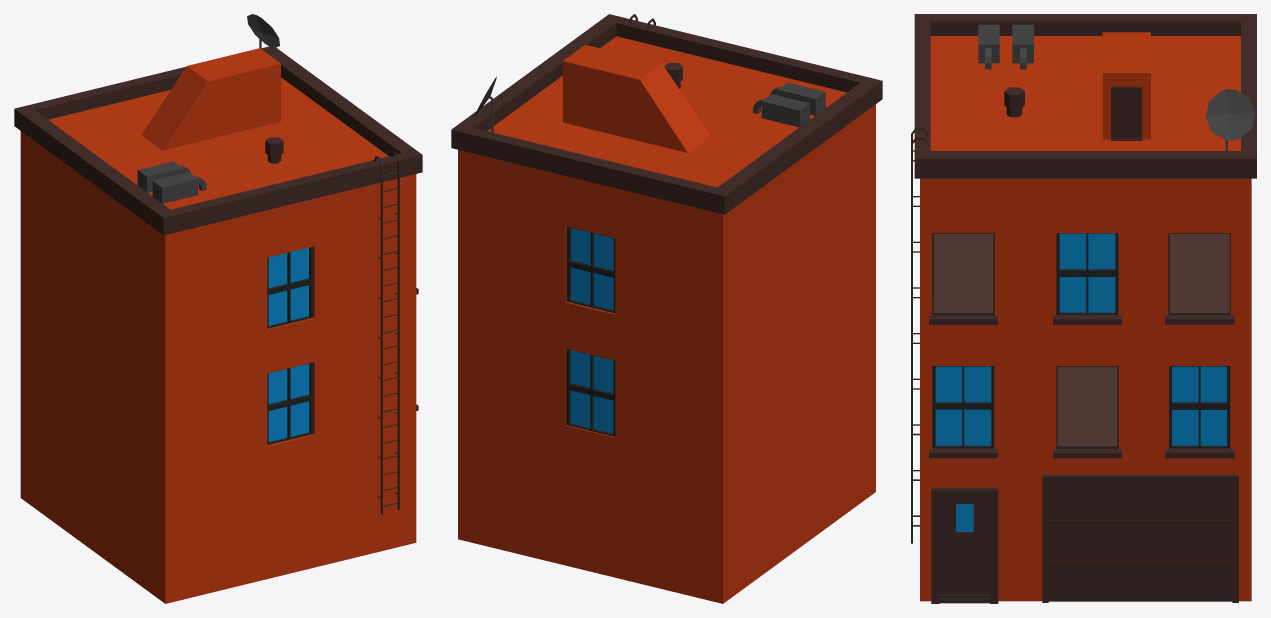
The model's file is House.fbx.
3 renders of one model, left to right at view 1: azimuth 30°, elevation 25°; view 2: azimuth 150°, elevation 25°; view 3: azimuth 270°, elevation 25°, orthographic. The views are drawn at different scales.
Visible parts, largest first — view 1: House, Other, Windows, Frames, Ventilation, TV_Antena; view 2: House, Other, Windows, Frames, Ventilation; view 3: House, Other, Rooms, Windows, Frames, TV_Antena, Ventilation.
Part boxes in pixels (x1,y1,x2,y2): House: (20, 48, 416, 603); Other: (14, 46, 422, 514); Windows: (268, 247, 309, 441); Frames: (267, 246, 313, 444); Ventilation: (137, 161, 206, 203); TV_Antena: (247, 14, 279, 48); House: (458, 36, 875, 603); Other: (451, 14, 882, 214); Windows: (570, 228, 613, 433); Frames: (566, 226, 615, 436); Ventilation: (753, 82, 825, 127); House: (920, 32, 1251, 601); Other: (911, 14, 1256, 603); Rooms: (933, 233, 1229, 446); Windows: (935, 233, 1226, 531); Frames: (932, 233, 1230, 448); TV_Antena: (1205, 89, 1255, 150); Ventilation: (978, 24, 1033, 69).
Bounding box in the file's own units: 416 × 663 × 417.
